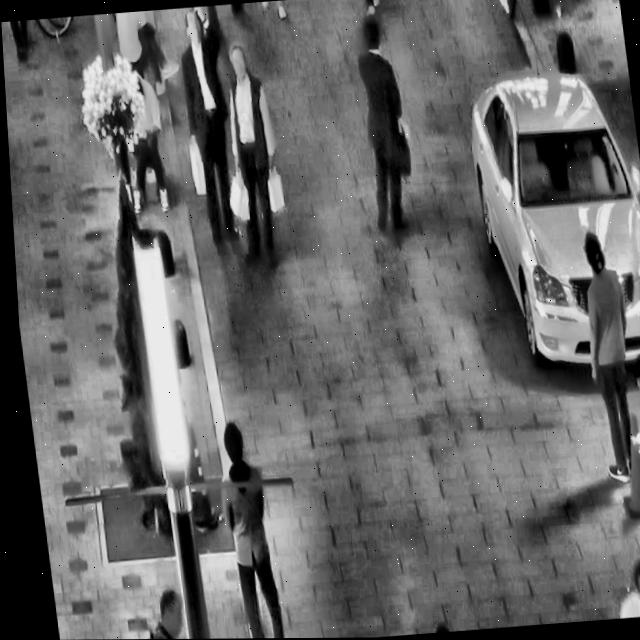light_vehicle: (452, 48, 640, 380)
